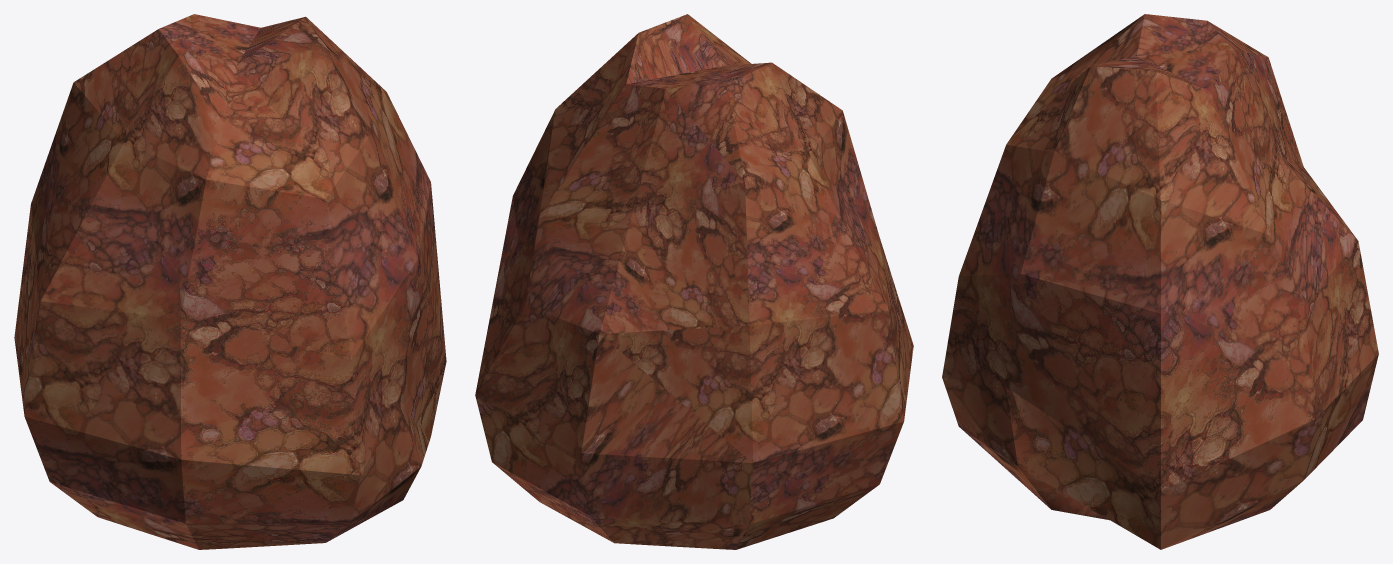
Rendered from ROCK_1M_1M.fbx.
3 views of the same model, side by side, from view 1: azimuth 30°, elevation 25°; view 2: azimuth 150°, elevation 25°; view 3: azimuth 270°, elevation 25° (orthographic). The views are drawn at different scales.
Visible parts, largest first — view 1: pSphere1; view 2: pSphere1; view 3: pSphere1.
Part boxes in pixels (box(x1,y1,x2,y2)): pSphere1: box(14, 14, 446, 549); pSphere1: box(475, 14, 913, 549); pSphere1: box(942, 14, 1378, 549).
Size of the model in its own units: 208 by 227 by 201.
